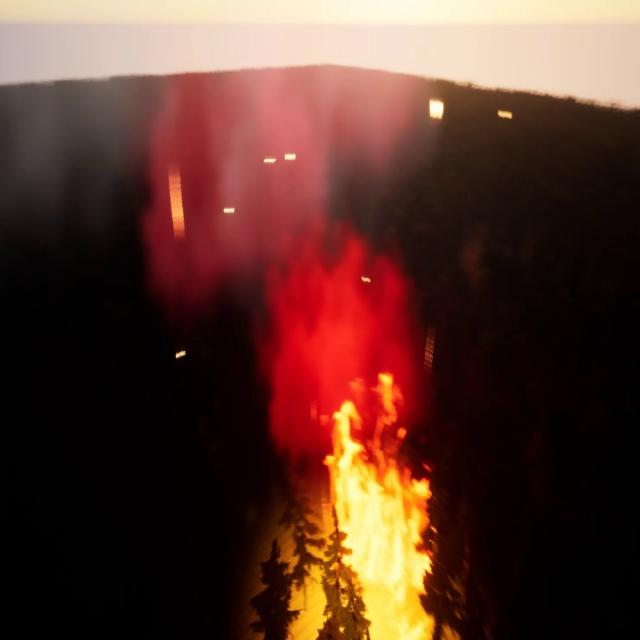fire: (328, 404, 441, 597)
smoke: (159, 66, 436, 436)
